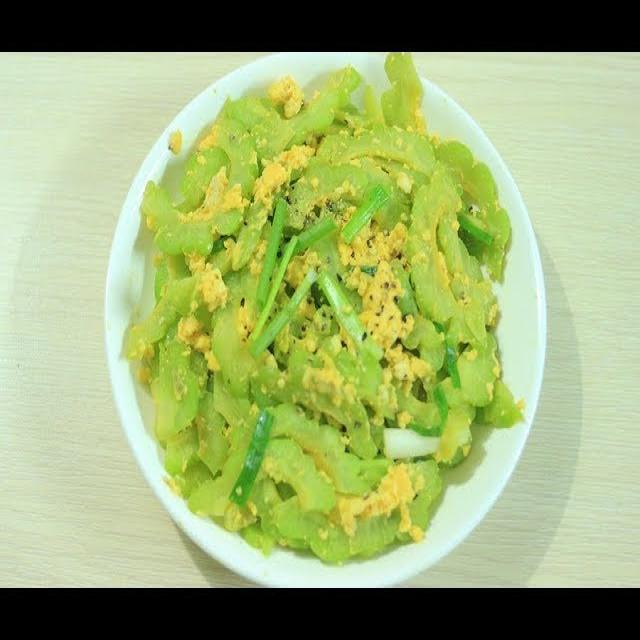kho qua: (122, 55, 523, 564)
